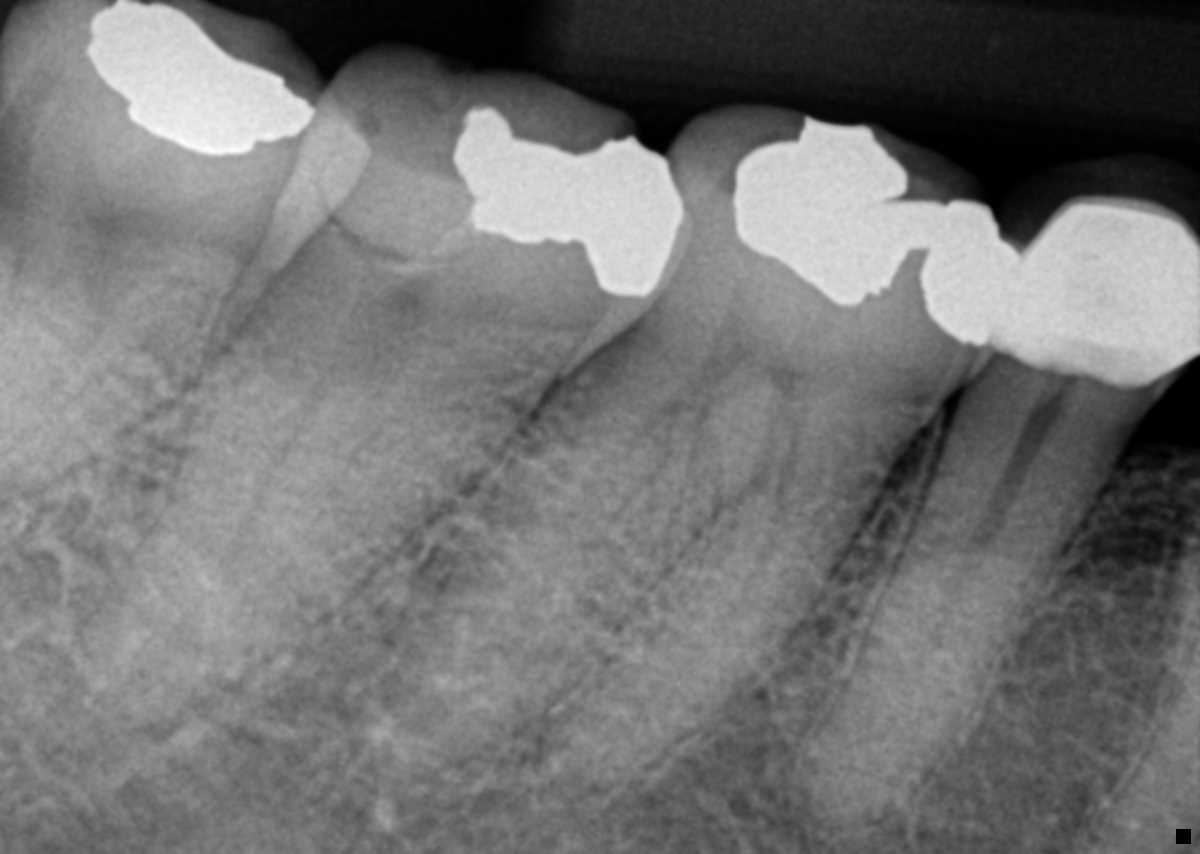Distal Canal: (502, 386, 709, 592)
Distal Root: (364, 330, 777, 780)
Main Canal: (182, 277, 422, 608), (923, 377, 1072, 668)
Main Root: (65, 208, 597, 737), (797, 355, 1144, 837), (0, 194, 277, 501)
Mesial Canal: (664, 418, 800, 686)
Mesial Root: (530, 375, 910, 797)
